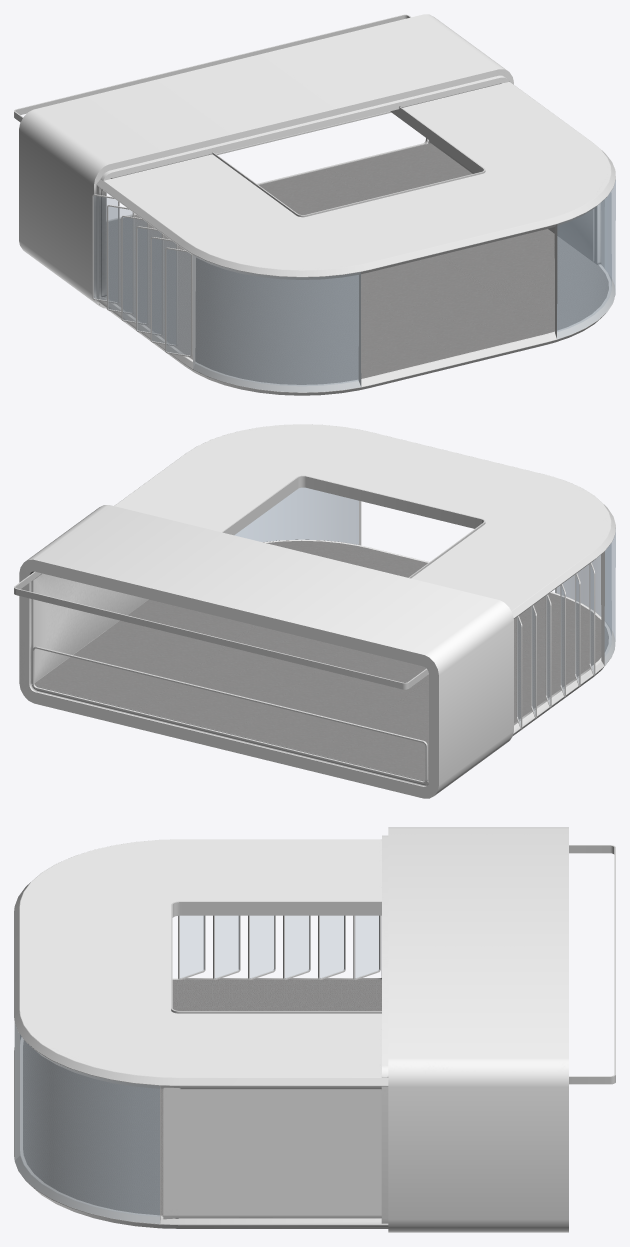
The model's file is v4-Conf-1A.fbx.
The picture shows the model from 3 angles, top to bottom: view 1: azimuth 30°, elevation 25°; view 2: azimuth 150°, elevation 25°; view 3: azimuth 270°, elevation 25°; orthographic projection. The views are drawn at different scales.
Parts seen in each view (by area): view 1: Cube.003; view 2: Cube.003; view 3: Cube.003.
Part boxes in pixels (x1,y1,x2,y2): Cube.003: [14, 14, 615, 395]; Cube.003: [14, 424, 615, 798]; Cube.003: [14, 827, 615, 1232].
Size of the model in its own units: 5288 by 1710 by 5387.
4 materials, 2 textured.
